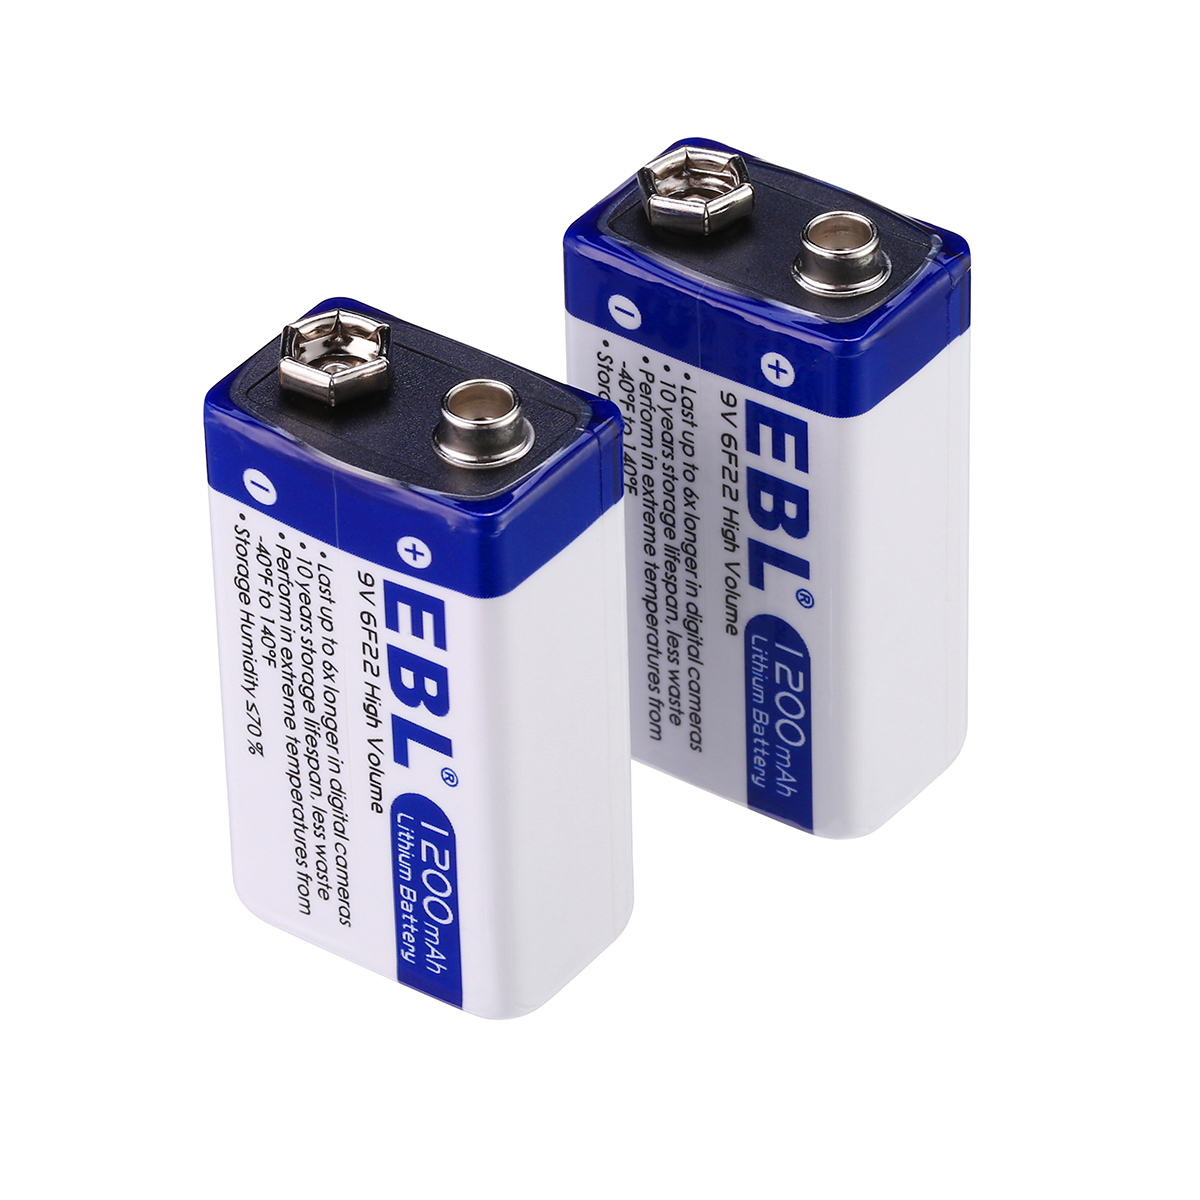9V: (548, 101, 1044, 860), (196, 295, 684, 1029)
